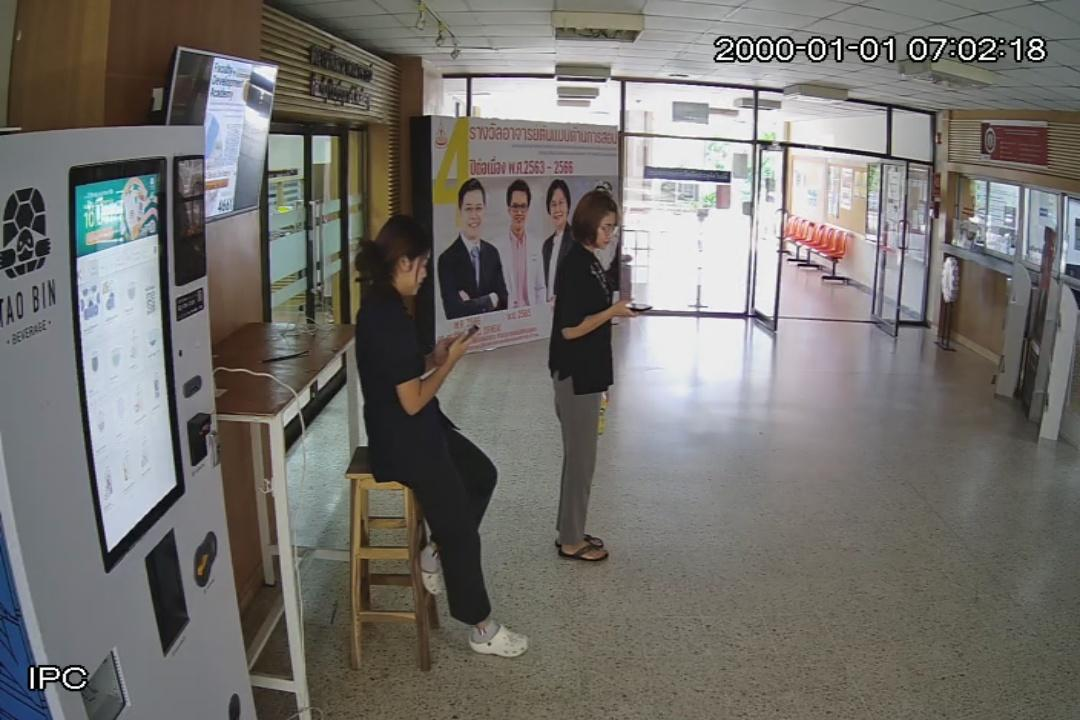normal: (355, 215, 528, 658), (549, 190, 634, 563)
